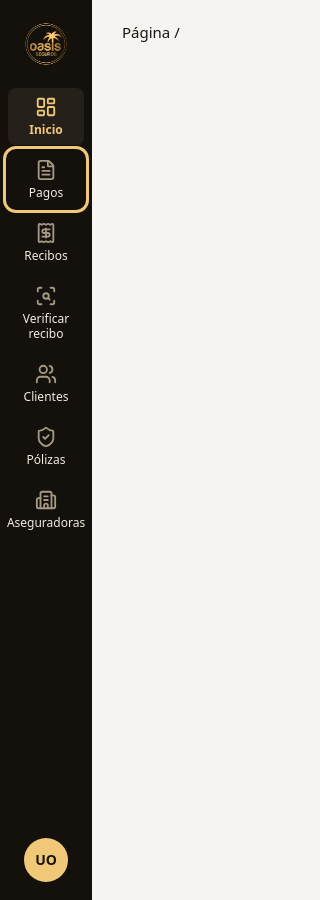
Test case: AppLayout — riel del personal › un ítem enfocado con el teclado lleva a su página
The width and height of the screenshot is (320, 900).
Click the link "Pagos" at (46, 180), box [29,159,63,201]
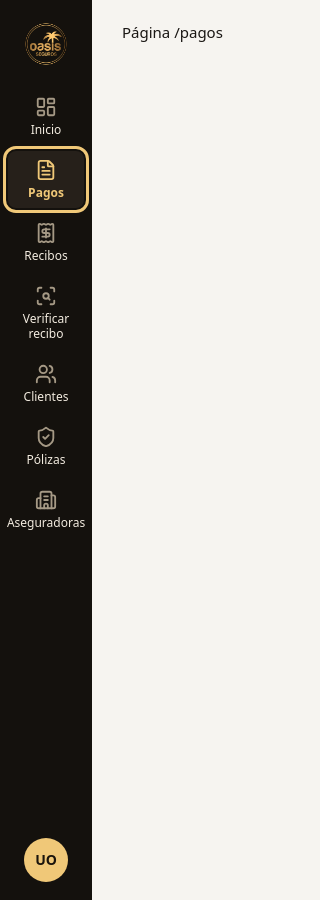
Result: the text "Página /pagos" is shown at [122,22,223,42]
